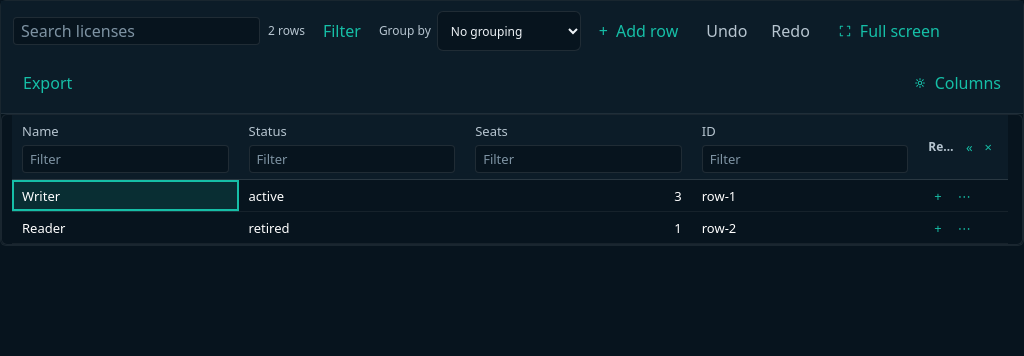
Test: the plus control inserts a new row directly below the row it belongs to
What coordinates should you click on to do the following:
click the button named "Insert a new row below Writer"
I would click on:
 (938, 196)
Its box is [928, 184, 948, 208].
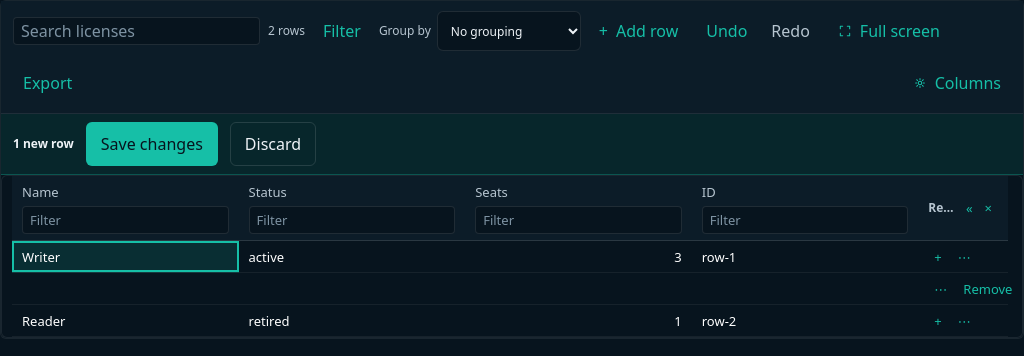
Check: the text "1 new row" is shown, box [13, 136, 74, 152]
Check: the button with aria-label "Remove new row 1" is shown, box [957, 276, 1018, 300]
